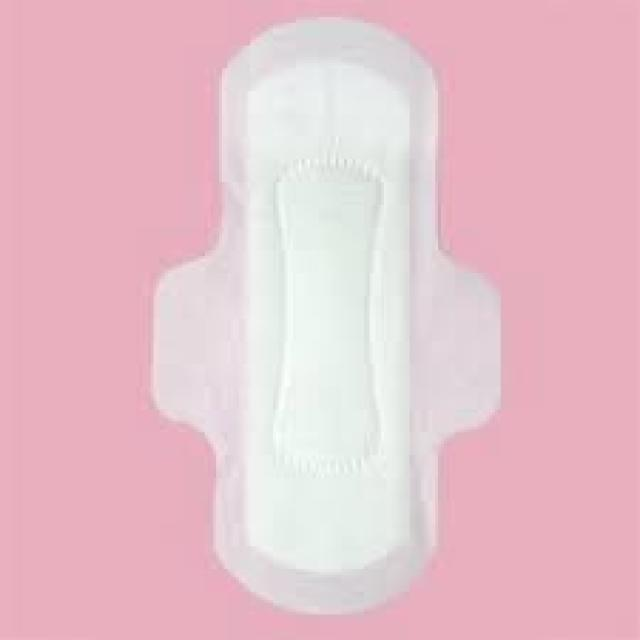napkin: (152, 19, 499, 613)
